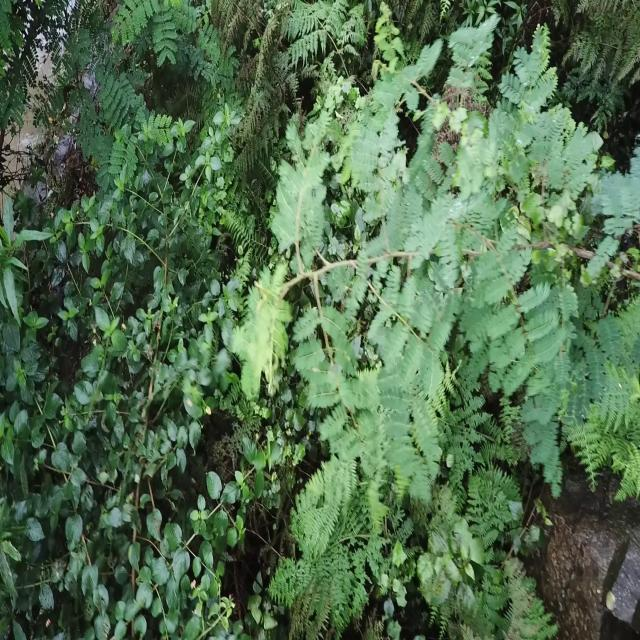Mysore-Thorn-Weed: (225, 24, 632, 449), (58, 41, 175, 182), (105, 0, 202, 58)
